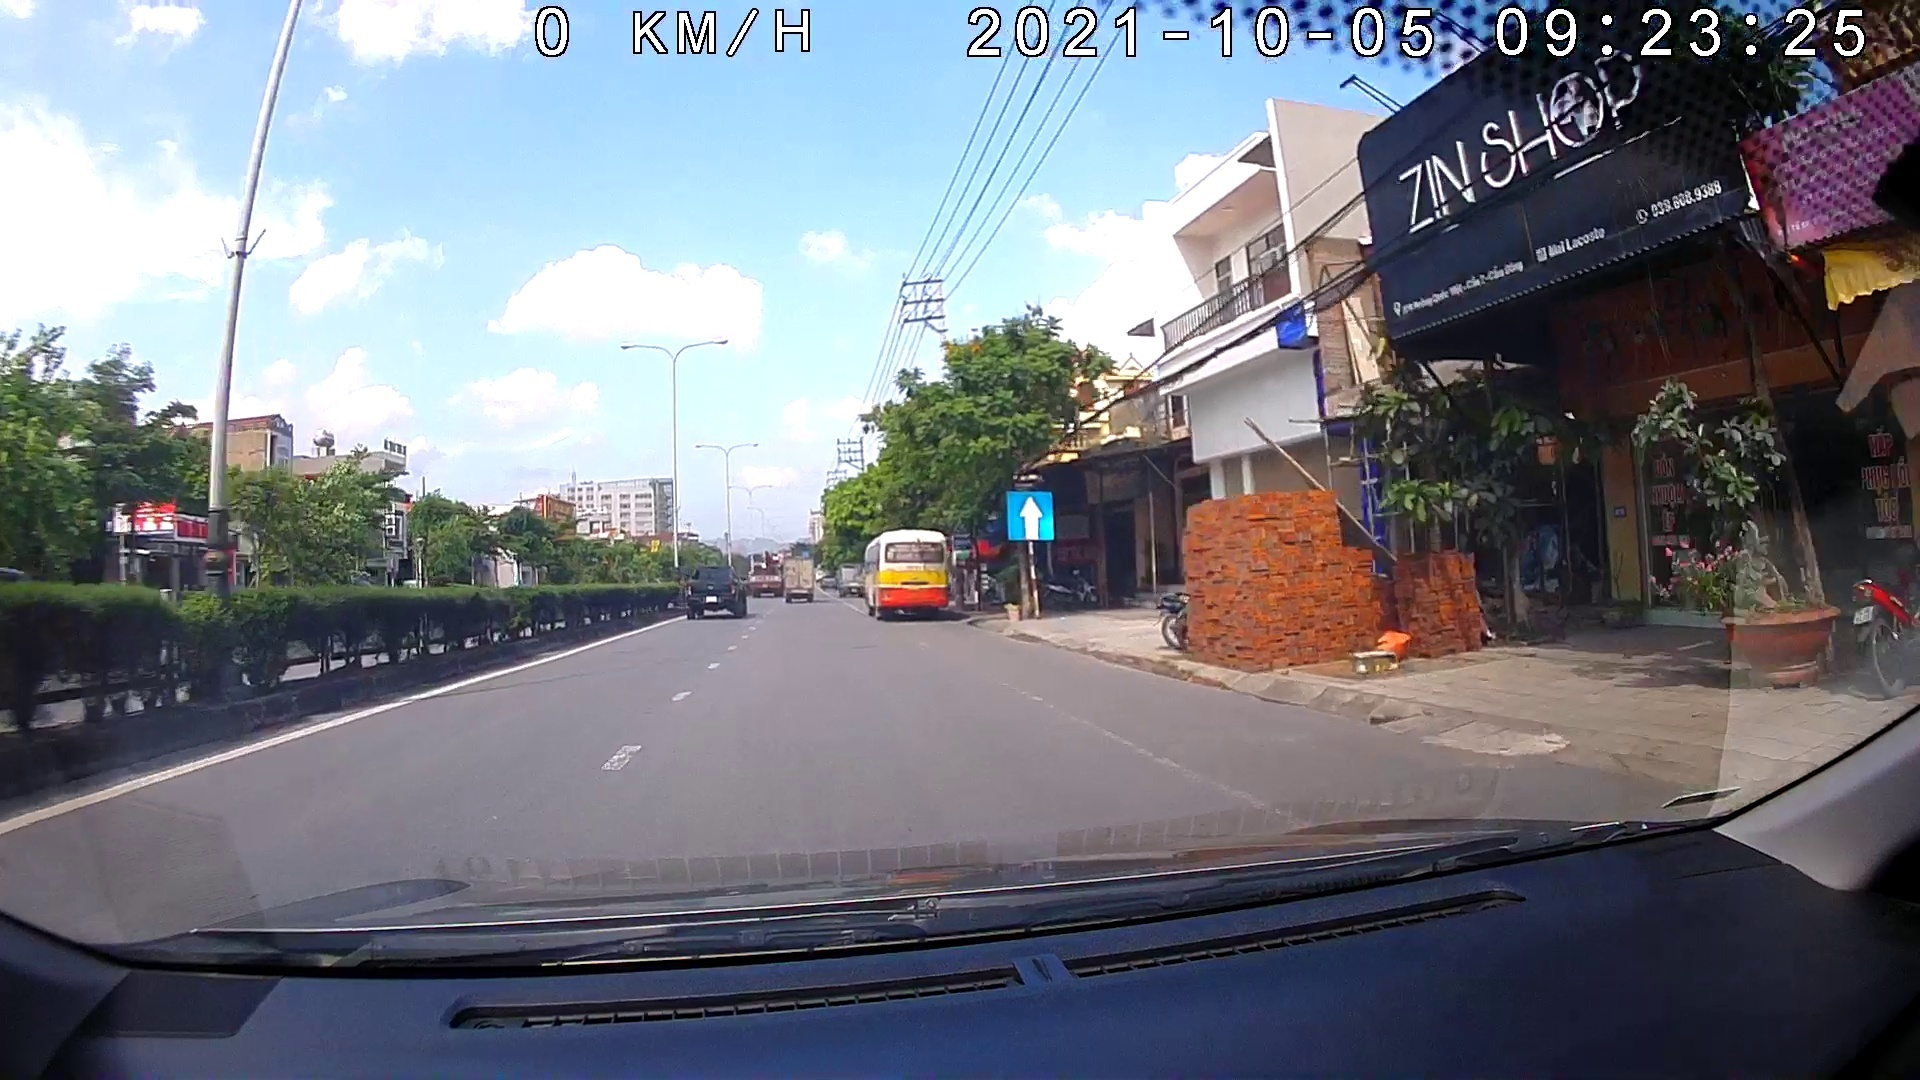Bien khac: (1004, 488, 1055, 542)
